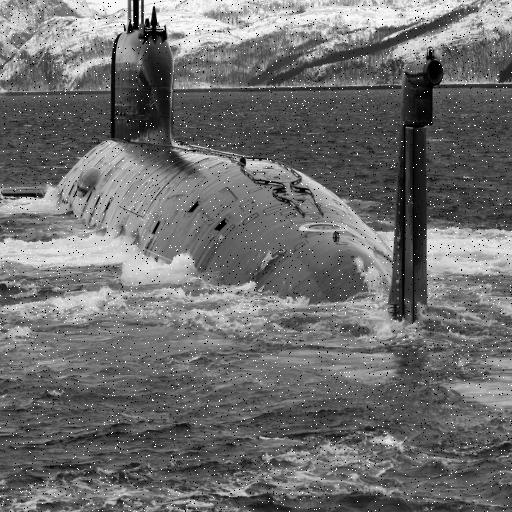submarine: (1, 1, 466, 352)
